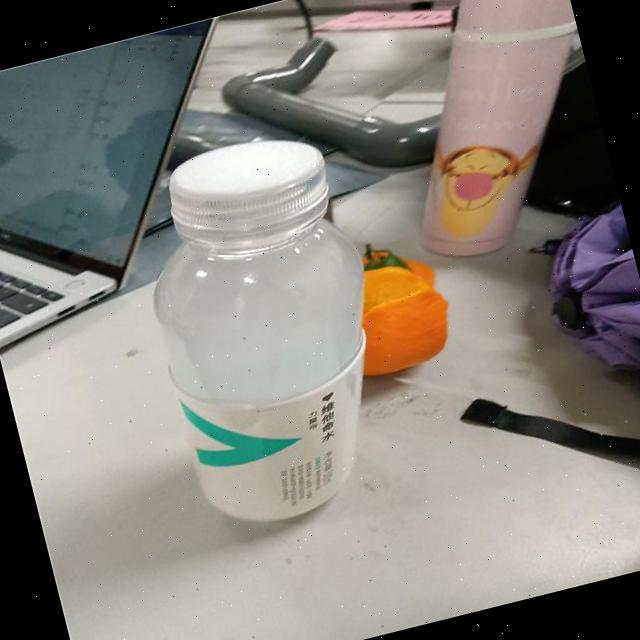orange-peel: (333, 236, 460, 382)
